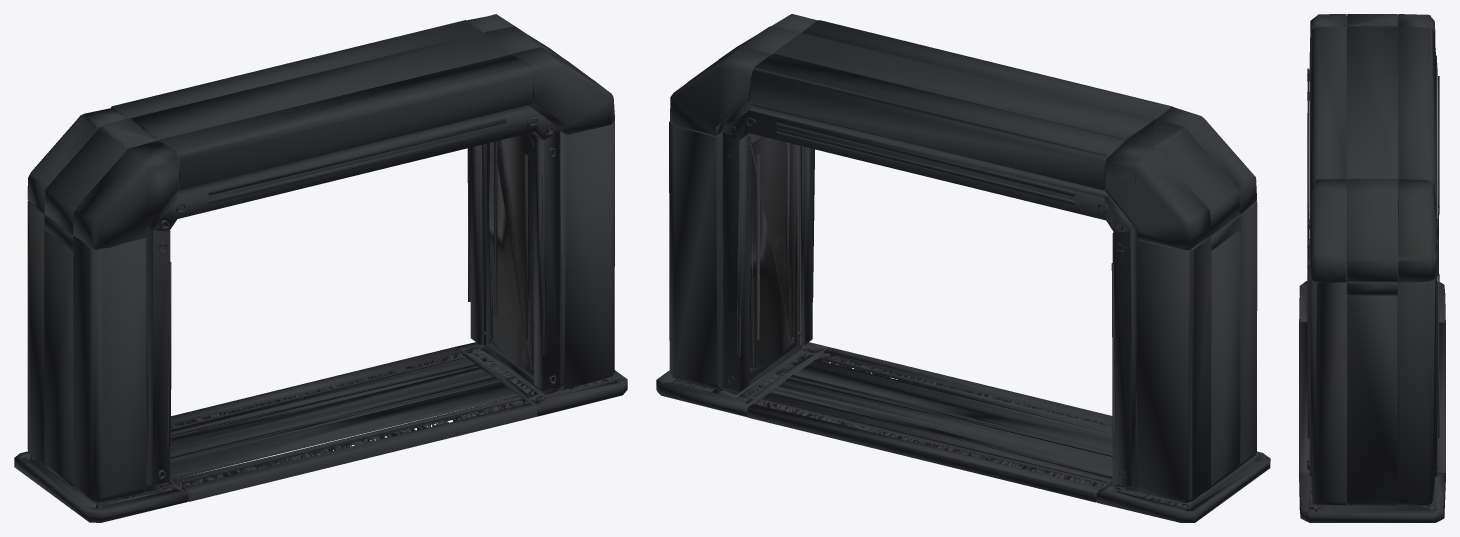
File: scanner.glb
3 views of the same model, side by side, from view 1: azimuth 30°, elevation 25°; view 2: azimuth 150°, elevation 25°; view 3: azimuth 270°, elevation 25° (orthographic). The views are drawn at different scales.
Bounding box in the file's own units: 0.9478 × 0.5743 × 0.2514.
1 material, 1 textured.
